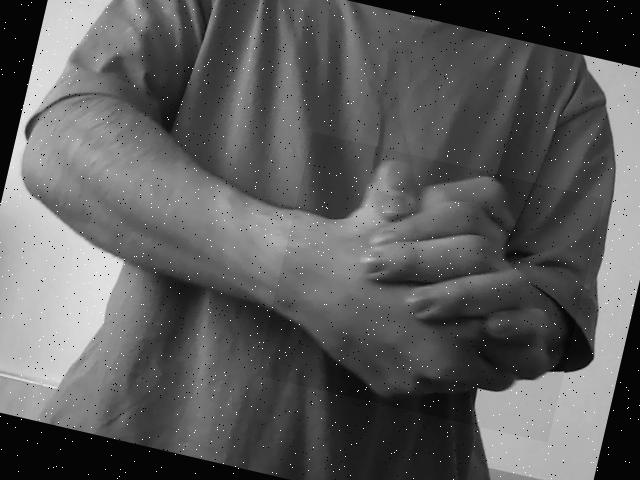friend: (272, 154, 565, 401)
